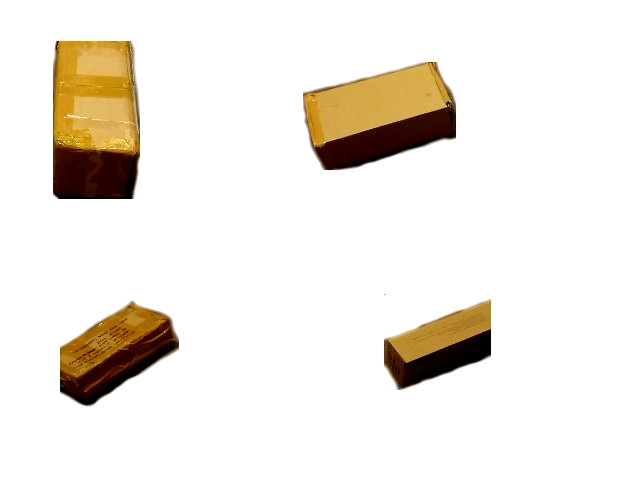cardboard: (305, 64, 457, 166), (53, 40, 138, 198), (60, 301, 175, 400), (386, 301, 490, 386)
